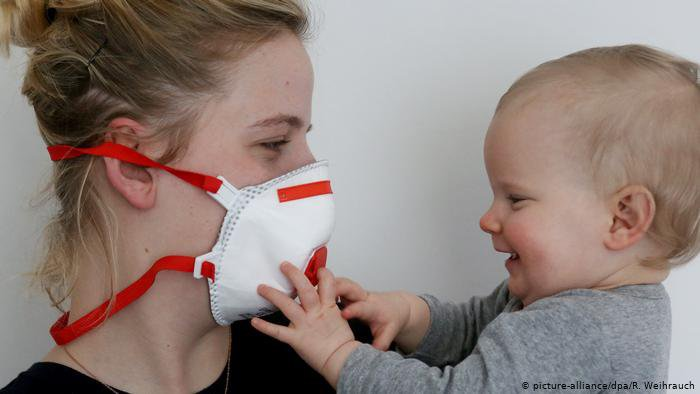mask: (32, 14, 356, 346)
noMask: (482, 44, 695, 299)
